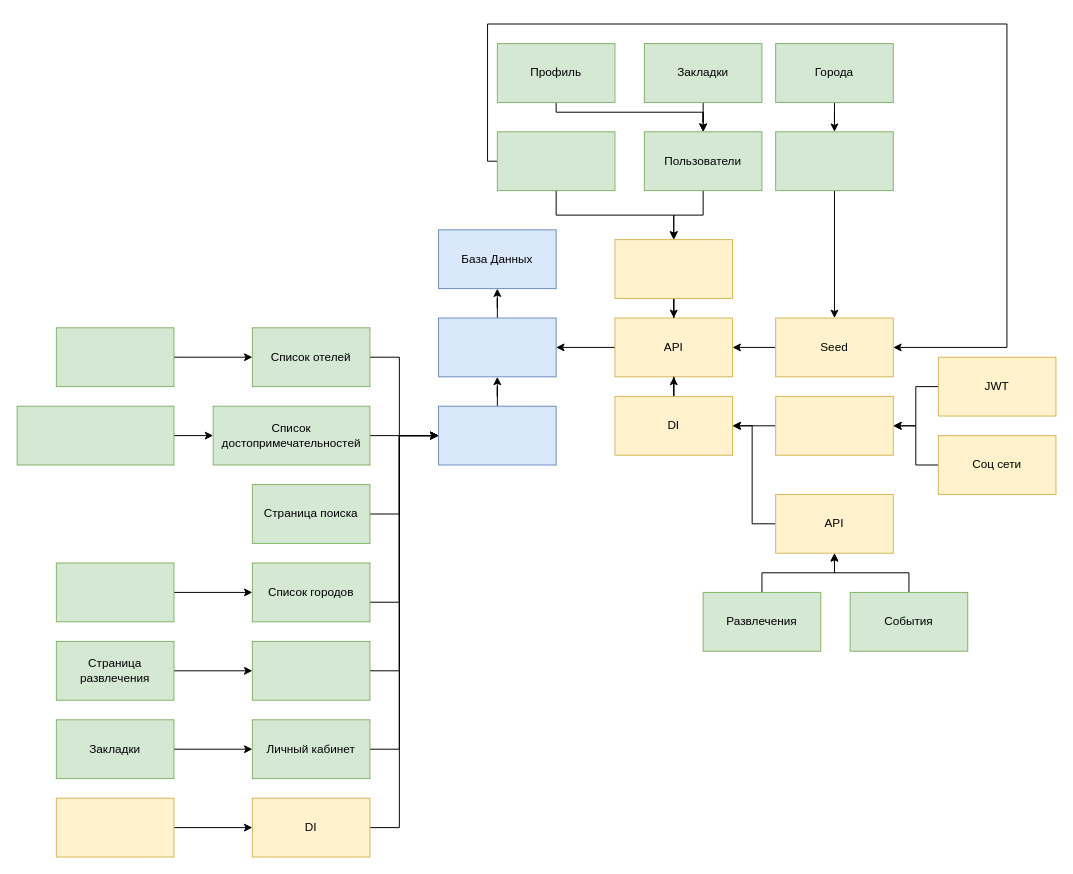
Some shapes in this 1073 by 874 pixel diagram are drawn without their labels. Each missing label, with the centre of its shape:
"Auth" goes at [834,425].
"Backend" goes at [497,347].
"CRUD" goes at [673,268].
"Frontend" goes at [497,435].
"Maps API" goes at [114,827].
"Метки" goes at [555,161].
"Миграции" goes at [834,161].
"Список развлечений" goes at [310,670].
"Страница города" goes at [114,592].
"Страница достопримечательностей" goes at [95,435].
"Страница отеля" goes at [114,357].
